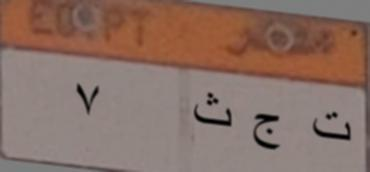7: (68, 72, 105, 118)
jeem: (249, 110, 284, 156)
taa: (310, 105, 356, 152)
thaa: (191, 85, 234, 136)
